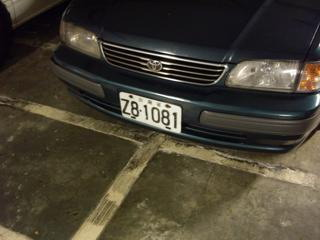plate: (118, 90, 183, 137)
